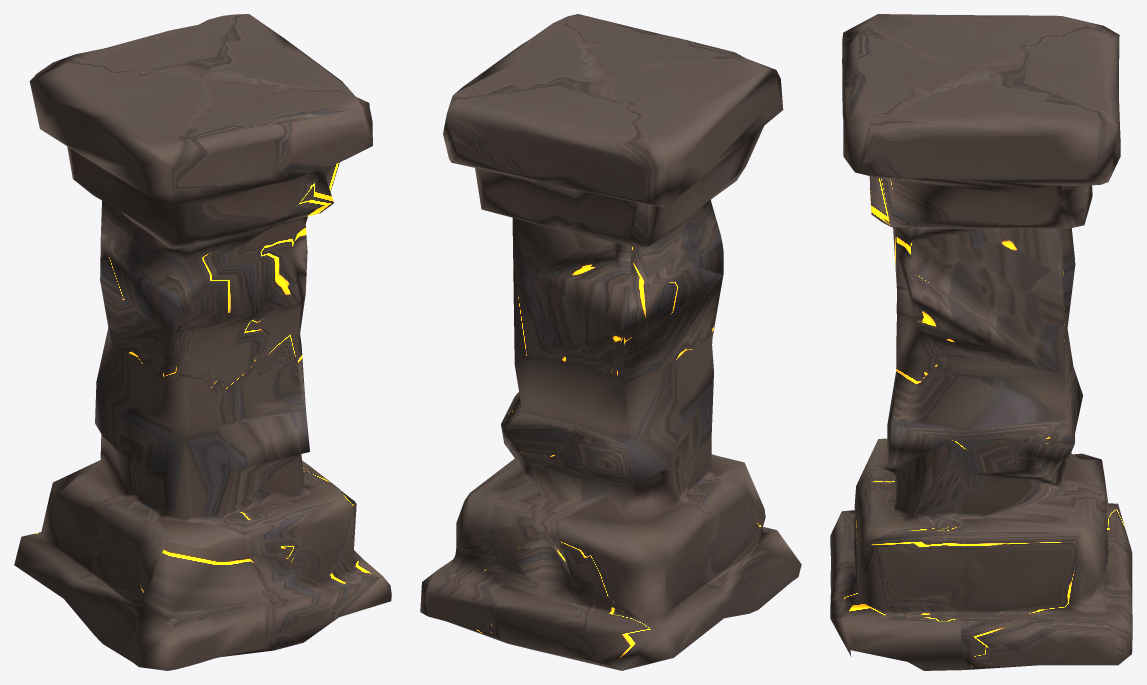
File: fg_pillar-BRgfUkL7.glb
3 renders of one model, left to right at view 1: azimuth 30°, elevation 25°; view 2: azimuth 150°, elevation 25°; view 3: azimuth 270°, elevation 25°, orthographic. The views are drawn at different scales.
Parts seen in each view (by area): view 1: tripo_node_8ae86995-015b-498b-810f-e74b8bfd6874; view 2: tripo_node_8ae86995-015b-498b-810f-e74b8bfd6874; view 3: tripo_node_8ae86995-015b-498b-810f-e74b8bfd6874.
Part boxes in pixels (bbox=[...]): tripo_node_8ae86995-015b-498b-810f-e74b8bfd6874: bbox=[14, 14, 391, 670]; tripo_node_8ae86995-015b-498b-810f-e74b8bfd6874: bbox=[420, 14, 801, 670]; tripo_node_8ae86995-015b-498b-810f-e74b8bfd6874: bbox=[830, 14, 1132, 670].
Size of the model in its own units: 1.99 by 3.95 by 1.98.
1 material, 1 textured.
